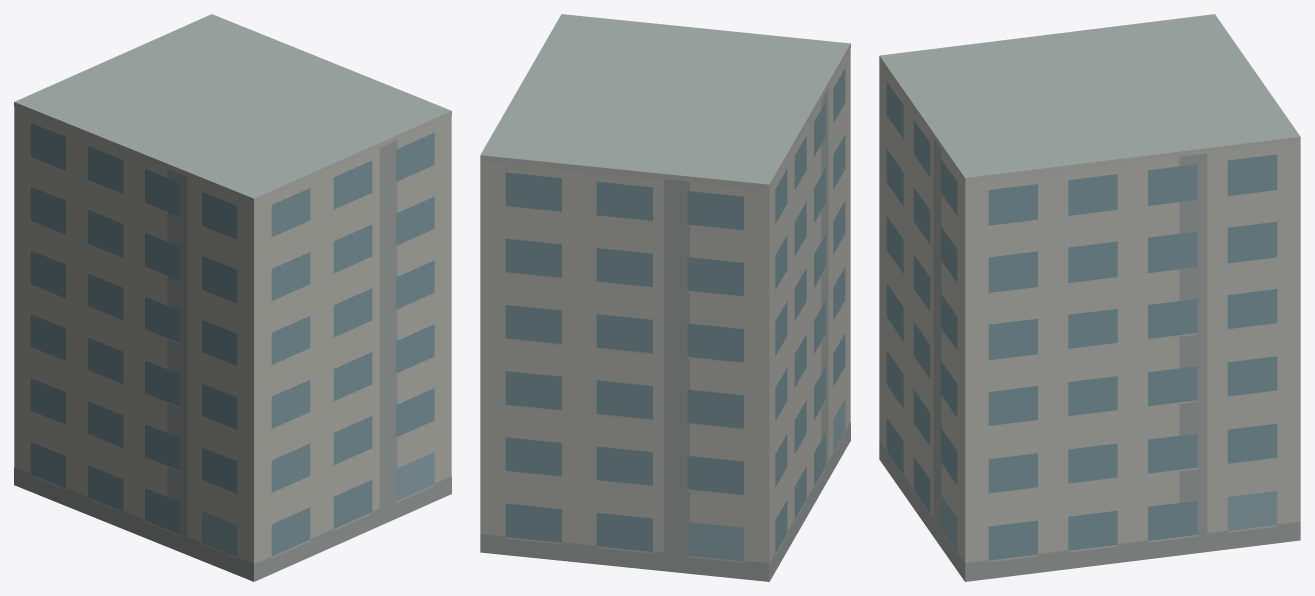
File: survey-upis-32835561.glb
3 renders of one model, left to right at view 1: azimuth 30°, elevation 25°; view 2: azimuth 150°, elevation 25°; view 3: azimuth 270°, elevation 25°, orthographic. The views are drawn at different scales.
Visible parts, largest first — view 1: survey-upis-32835561.tmp; view 2: survey-upis-32835561.tmp; view 3: survey-upis-32835561.tmp.
Part boxes in pixels (left/top/right/bottom): survey-upis-32835561.tmp: left=14, top=14, right=451, bottom=581; survey-upis-32835561.tmp: left=480, top=14, right=850, bottom=581; survey-upis-32835561.tmp: left=879, top=14, right=1300, bottom=581.
Size of the model in its own units: 15.96 by 18.3 by 17.31.
